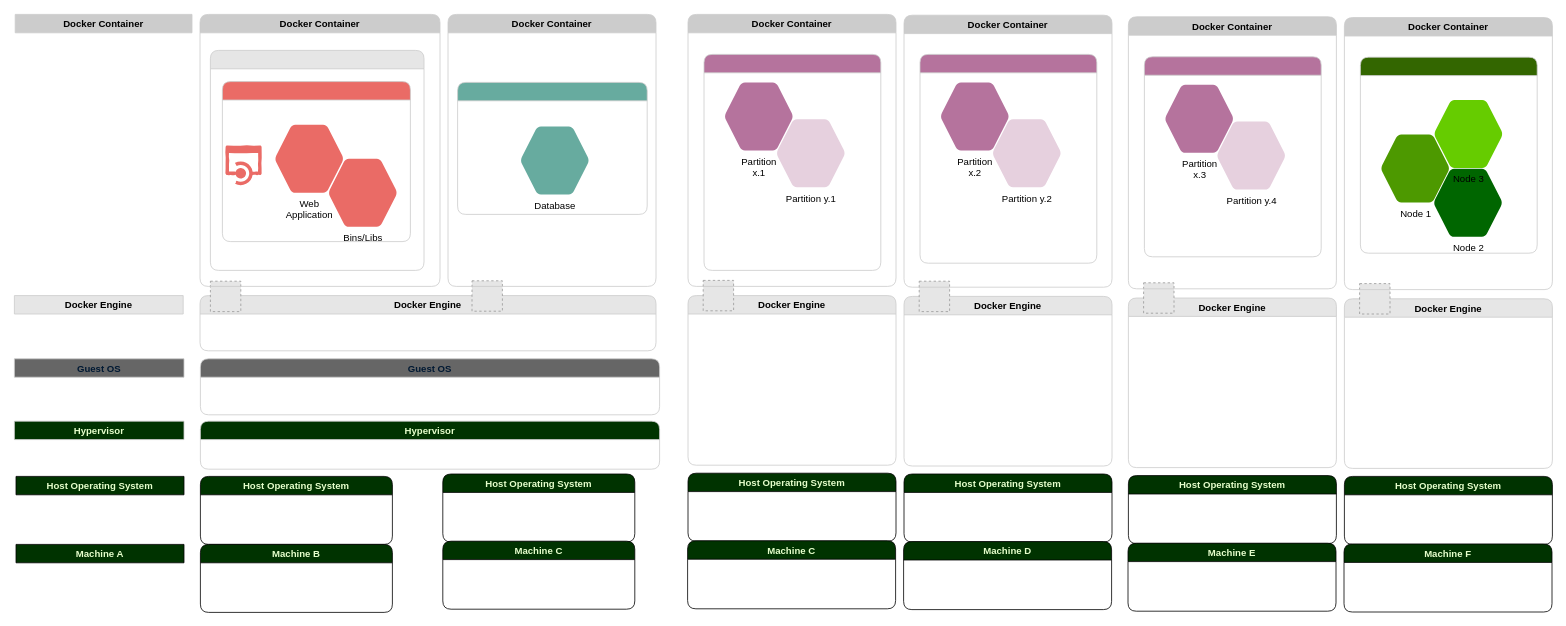
Image size: 1566x626. Some labels were removed from this diagram. Grey dashed boxes stand in for pictures. Here are the shapes that lost their labels. From the top down, the box of each, then its label:
(222, 81, 410, 242): Web Container
(210, 50, 424, 270): Java Virtual Machine
(457, 82, 647, 214): Database Server
(703, 54, 881, 270): Kafka Broker -1 (Kafka Server)
(919, 54, 1097, 263): Kafka Broker - 2 (Kafka Server)
(1144, 56, 1321, 257): Kafka Broker -3 (Kafka Server)
(1360, 56, 1537, 253): Zookeeper
